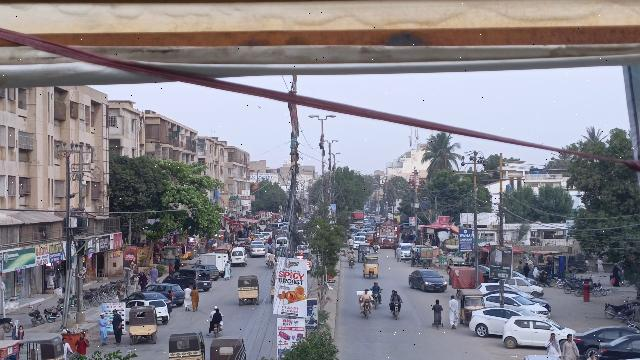Bike: (389, 300, 404, 321), (361, 299, 373, 321), (371, 290, 383, 310), (211, 324, 222, 338)
Car: (501, 314, 570, 352), (468, 306, 538, 339), (572, 327, 623, 357), (163, 268, 213, 294), (597, 333, 640, 360), (406, 269, 448, 294)
Person: (110, 306, 124, 347), (560, 333, 580, 360), (429, 298, 445, 330), (447, 294, 459, 331), (96, 313, 108, 347), (544, 332, 560, 355), (76, 333, 89, 358), (182, 284, 192, 311), (191, 284, 200, 312), (61, 337, 71, 359), (210, 308, 223, 324), (222, 260, 232, 280), (360, 289, 373, 301), (391, 290, 402, 302), (371, 281, 382, 292)
Rickshaw: (127, 306, 160, 347), (165, 330, 205, 360), (456, 287, 485, 326), (209, 337, 247, 360), (235, 274, 261, 307), (360, 254, 380, 280)
Truck: (199, 251, 232, 277)
